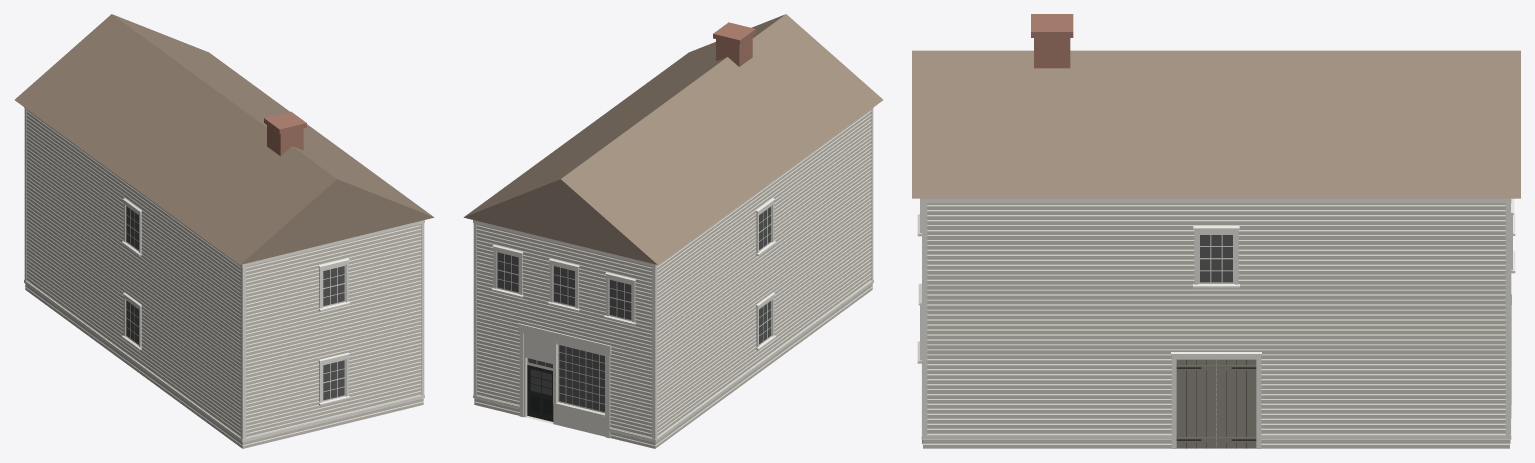
File: recon_1835_core_c3_009__inferred_1835.glb
The picture shows the model from 3 angles, left to right: view 1: azimuth 30°, elevation 25°; view 2: azimuth 150°, elevation 25°; view 3: azimuth 270°, elevation 25°; orthographic projection. The views are drawn at different scales.
Visible parts, largest first — view 1: recon_1835_core_c3_009__inferred_1835; view 2: recon_1835_core_c3_009__inferred_1835; view 3: recon_1835_core_c3_009__inferred_1835.
Boxes of the visible parts, x1,y1,x2,y2 form: recon_1835_core_c3_009__inferred_1835: (14,14,434,448); recon_1835_core_c3_009__inferred_1835: (463,14,883,448); recon_1835_core_c3_009__inferred_1835: (912,14,1520,448).
Size of the model in its own units: 7.03 by 9.35 by 14.1.
